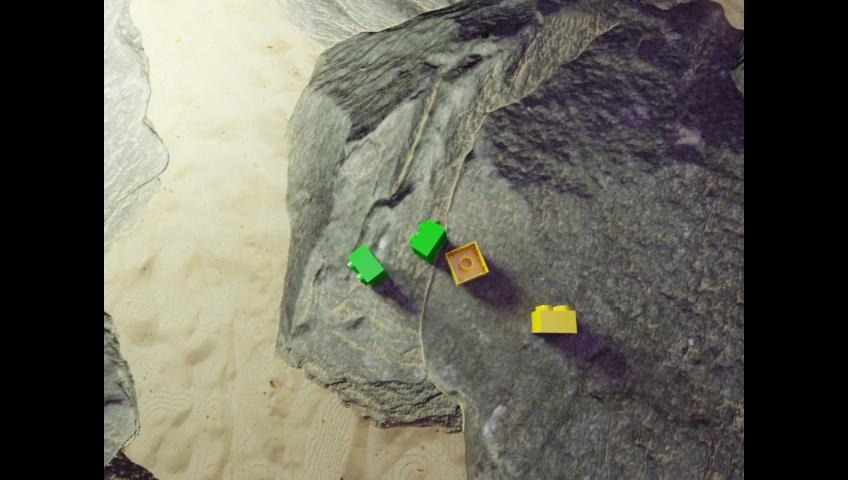2x2_green: (409, 218, 446, 263), (347, 244, 386, 286)
2x2_yellow: (445, 241, 487, 285), (531, 305, 575, 332)
